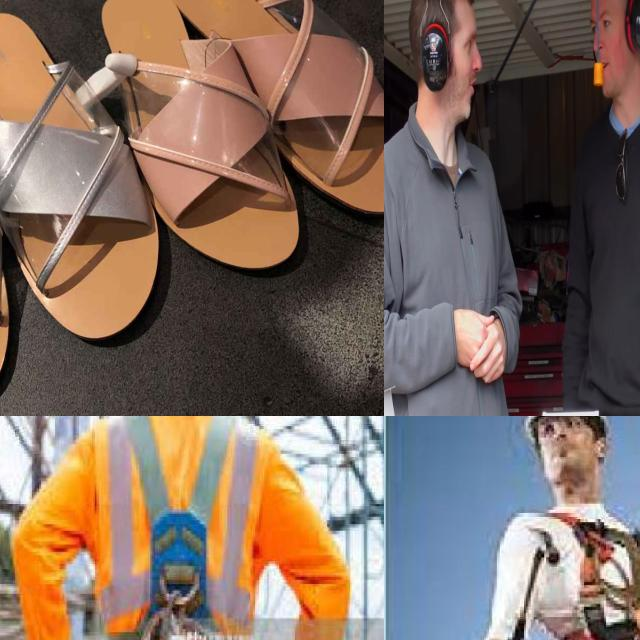Harness: (88, 416, 256, 640), (538, 511, 640, 640)
No_Ear-Protection: (419, 11, 452, 91)
No_Glasses: (624, 0, 640, 54), (458, 38, 482, 63), (588, 22, 621, 38)
Sandals: (87, 0, 384, 288), (0, 11, 190, 416)
face_nomask: (594, 31, 629, 97), (448, 52, 482, 119)
hand_noglove: (454, 310, 507, 383)
head_nohelmet: (409, 0, 456, 81)
